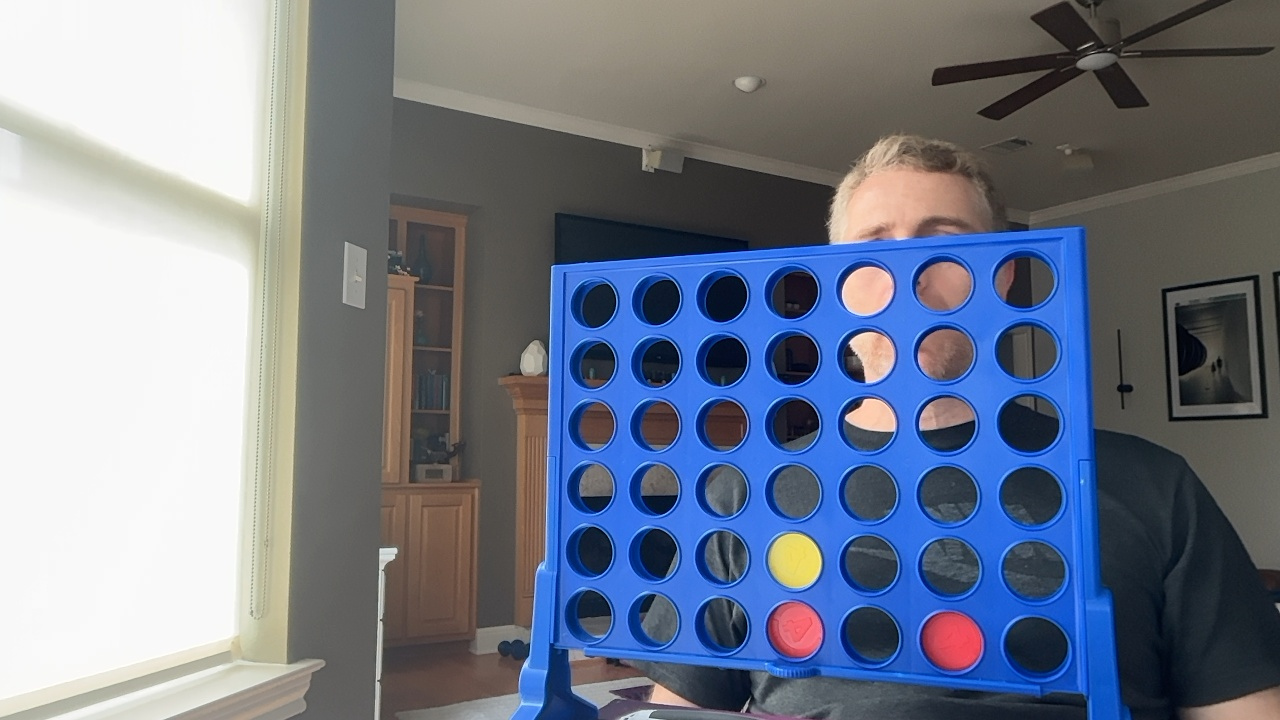red piece: (921, 611, 983, 671), (767, 601, 823, 657)
yellow piece: (768, 533, 821, 588)
